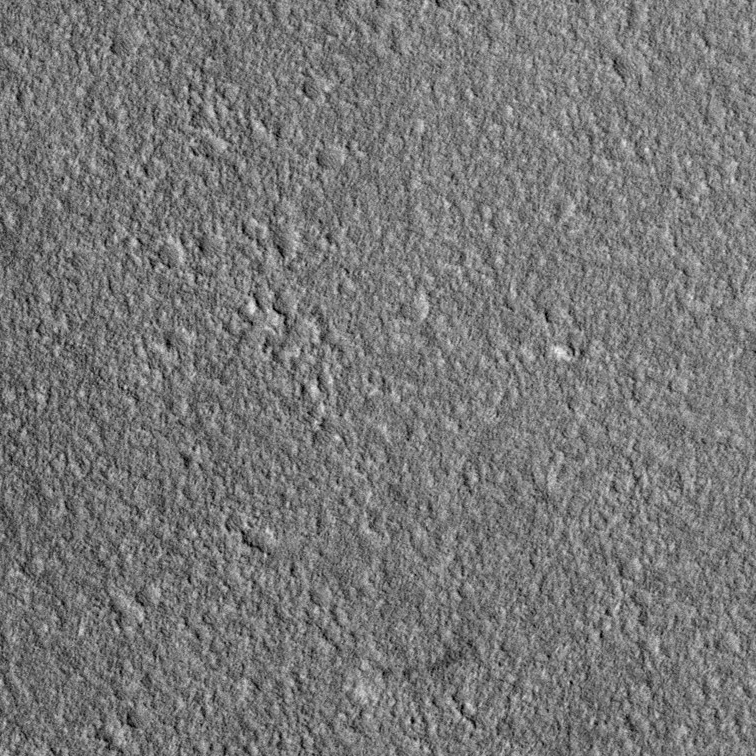dust_devil: (349, 637, 480, 709)
